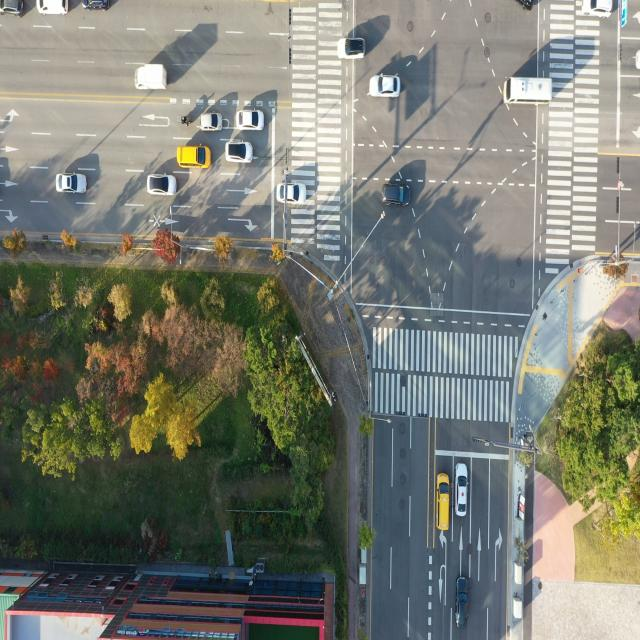car: (436, 472, 451, 532), (379, 181, 410, 208), (456, 464, 470, 521), (236, 108, 267, 133), (369, 73, 401, 97), (275, 184, 308, 207), (456, 577, 470, 631), (56, 171, 87, 195), (144, 172, 176, 194), (175, 143, 211, 162), (223, 141, 254, 163), (37, 0, 71, 17), (335, 38, 364, 56), (584, 0, 614, 16), (200, 114, 223, 134), (0, 0, 25, 18), (85, 0, 112, 12)
small_bus: (502, 77, 553, 105)
small_truck: (132, 62, 167, 87)
